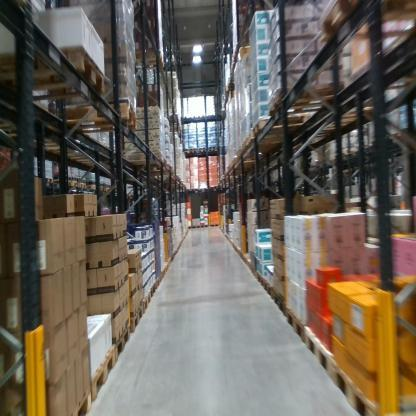pallets: (253, 266, 404, 416), (87, 263, 169, 403)
